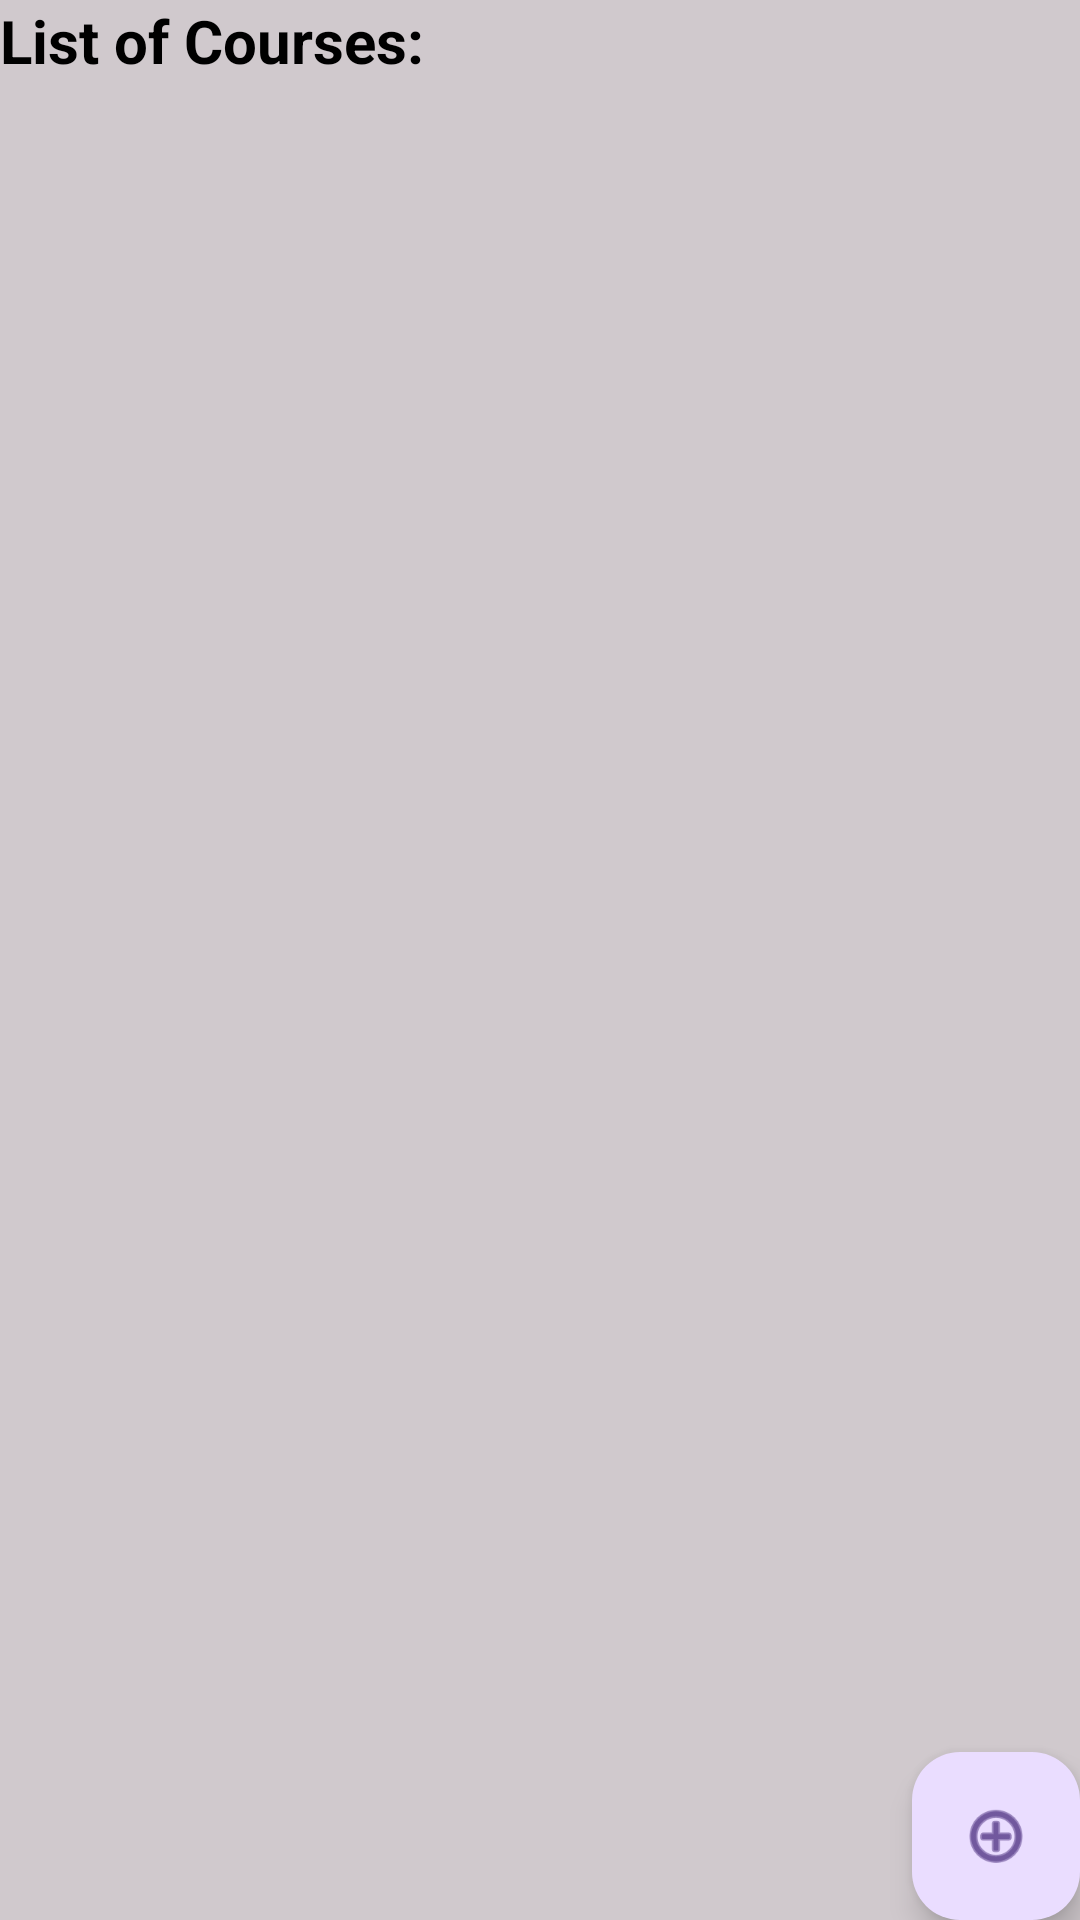

Icons on this 1080w x 1920h Android screen, each with its box as (x1, y1, x2, y2):
Course Add Floating Button: (912, 1752, 1080, 1920)
